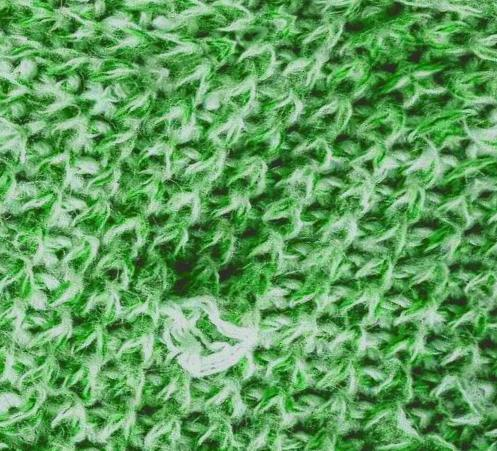snag: (146, 284, 274, 384)
